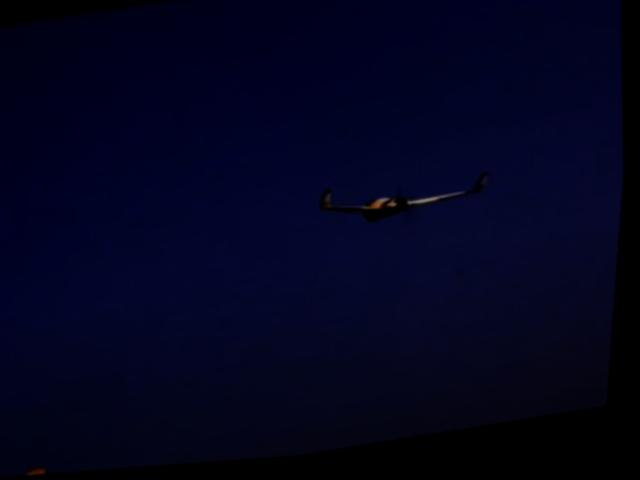iha: (312, 167, 502, 240)
